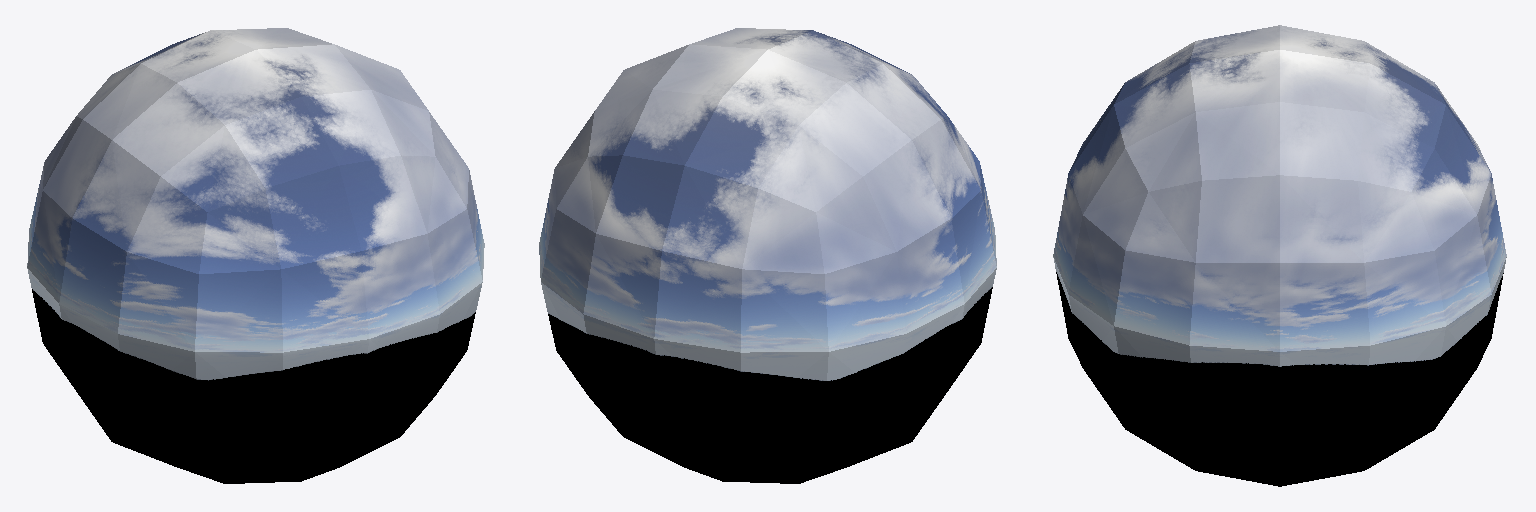
The picture shows the model from 3 angles: view 1: azimuth 30°, elevation 25°; view 2: azimuth 150°, elevation 25°; view 3: azimuth 270°, elevation 25°; orthographic projection.
Parts seen in each view (by area): view 1: skybox01; view 2: skybox01; view 3: skybox01.
Part boxes in pixels (bbox=[...]): skybox01: bbox=[27, 28, 484, 483]; skybox01: bbox=[539, 28, 996, 483]; skybox01: bbox=[1053, 25, 1506, 486].
Bounding box in the file's own units: 765 × 766 × 763.
Materials: 6 (6 with a texture image).